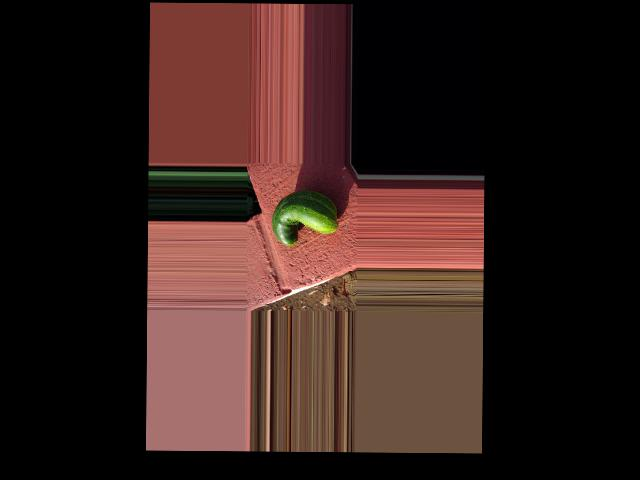cucumber: (272, 190, 338, 247)
